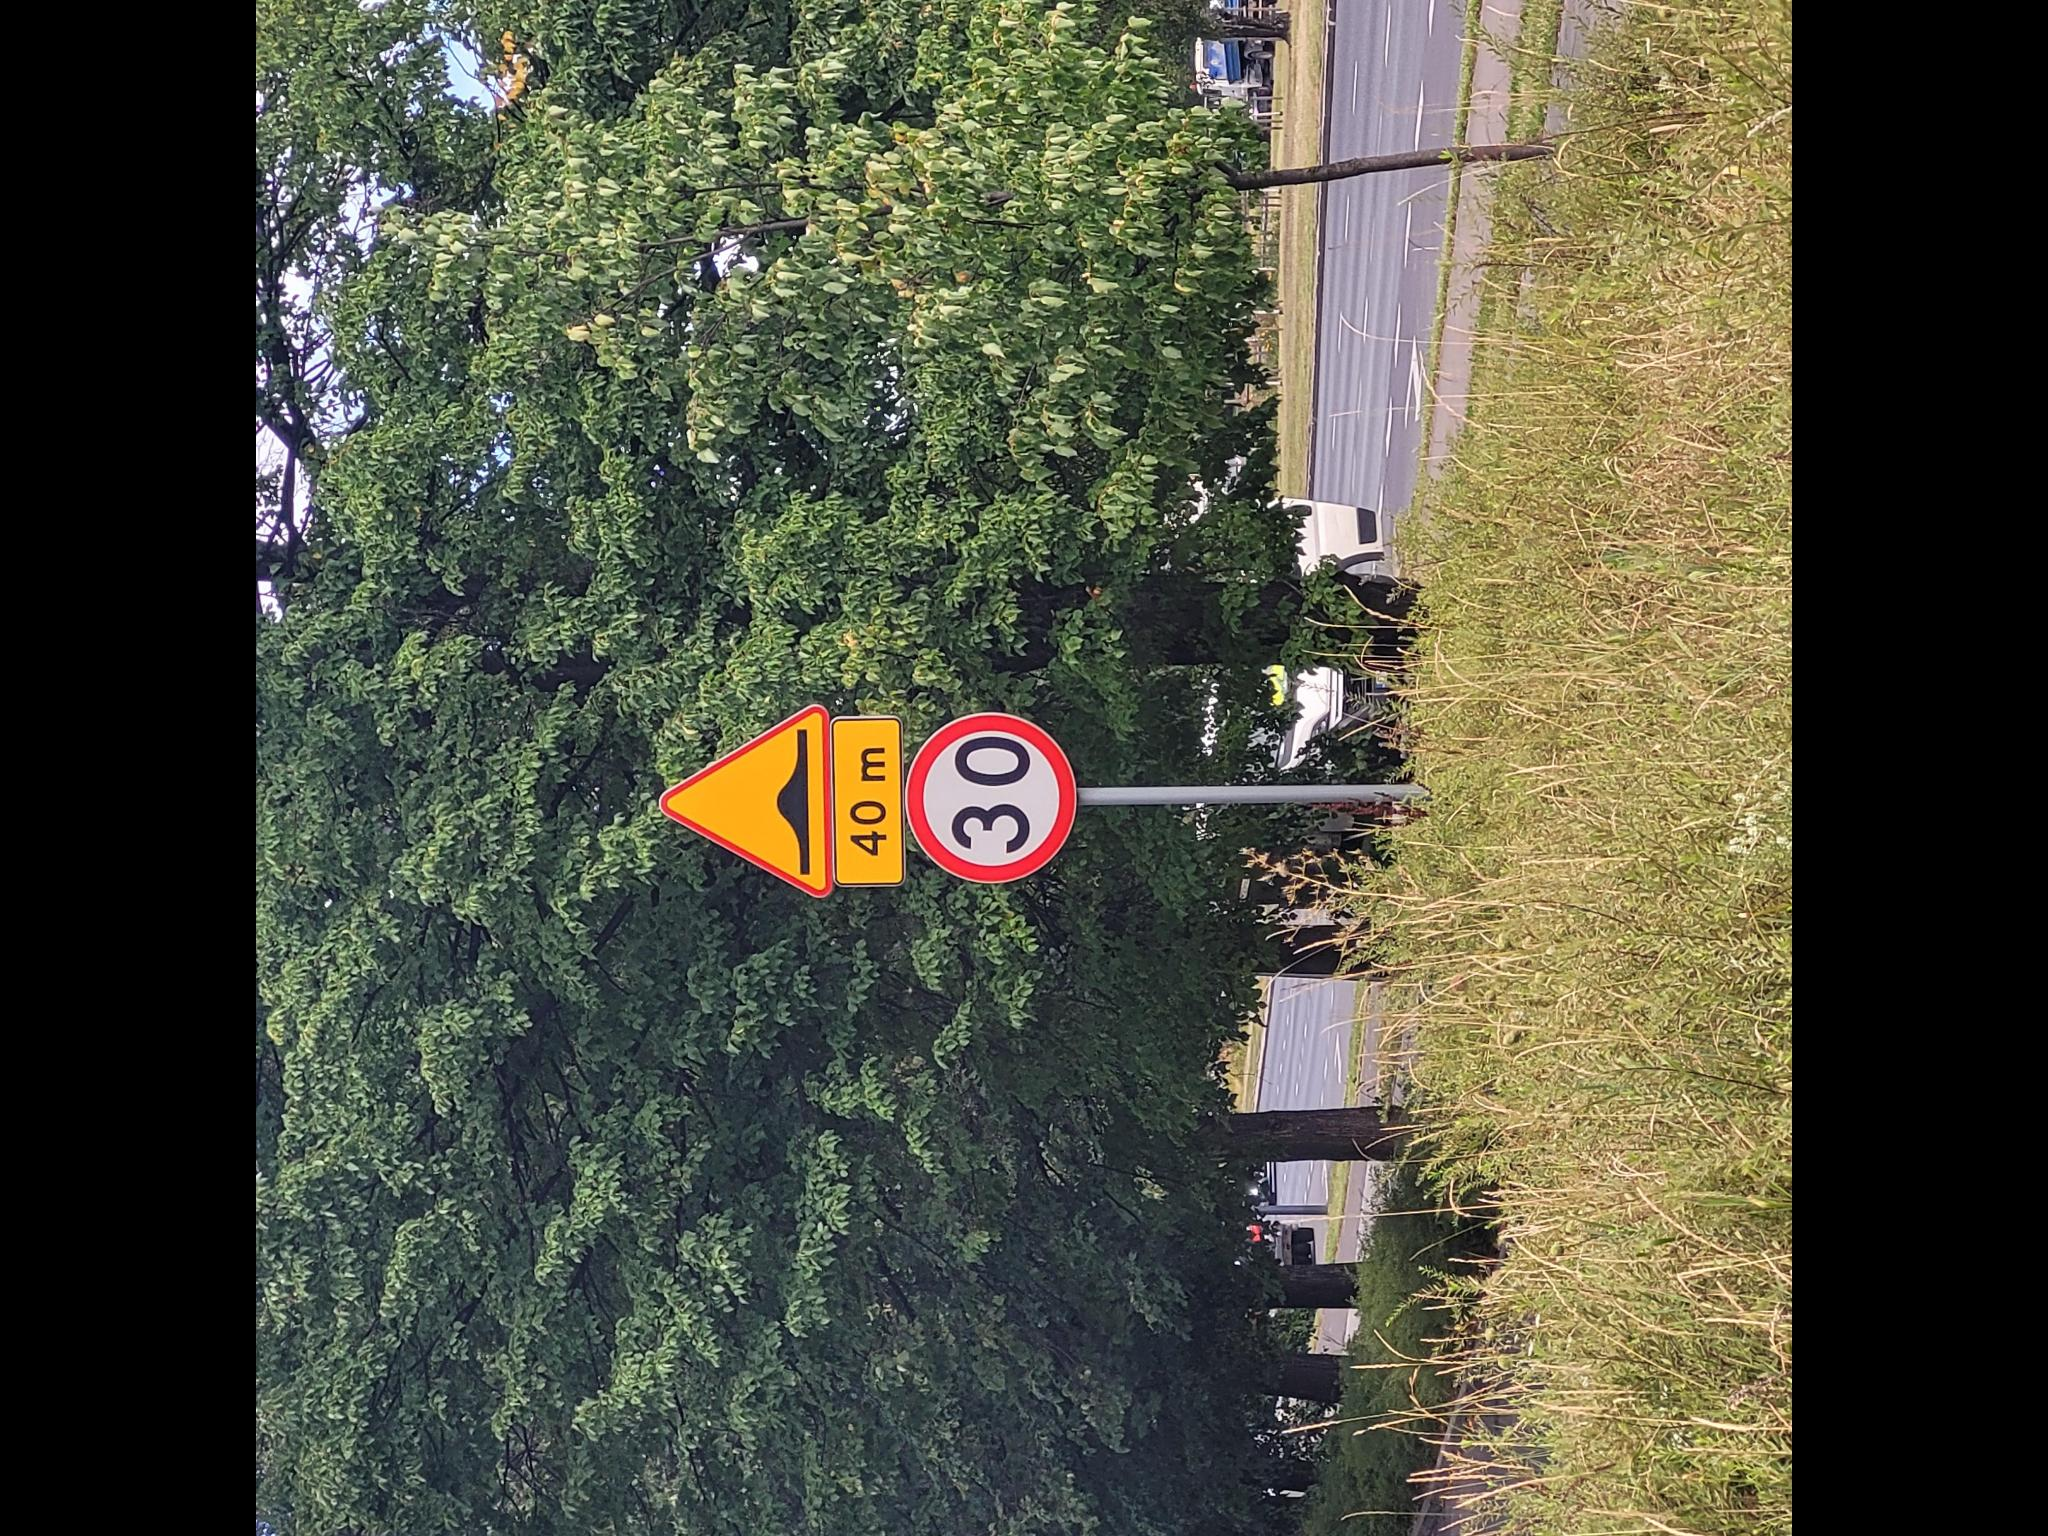other: (832, 716, 901, 886)
prohibitory: (905, 710, 1079, 884)
warning: (658, 702, 832, 897)
